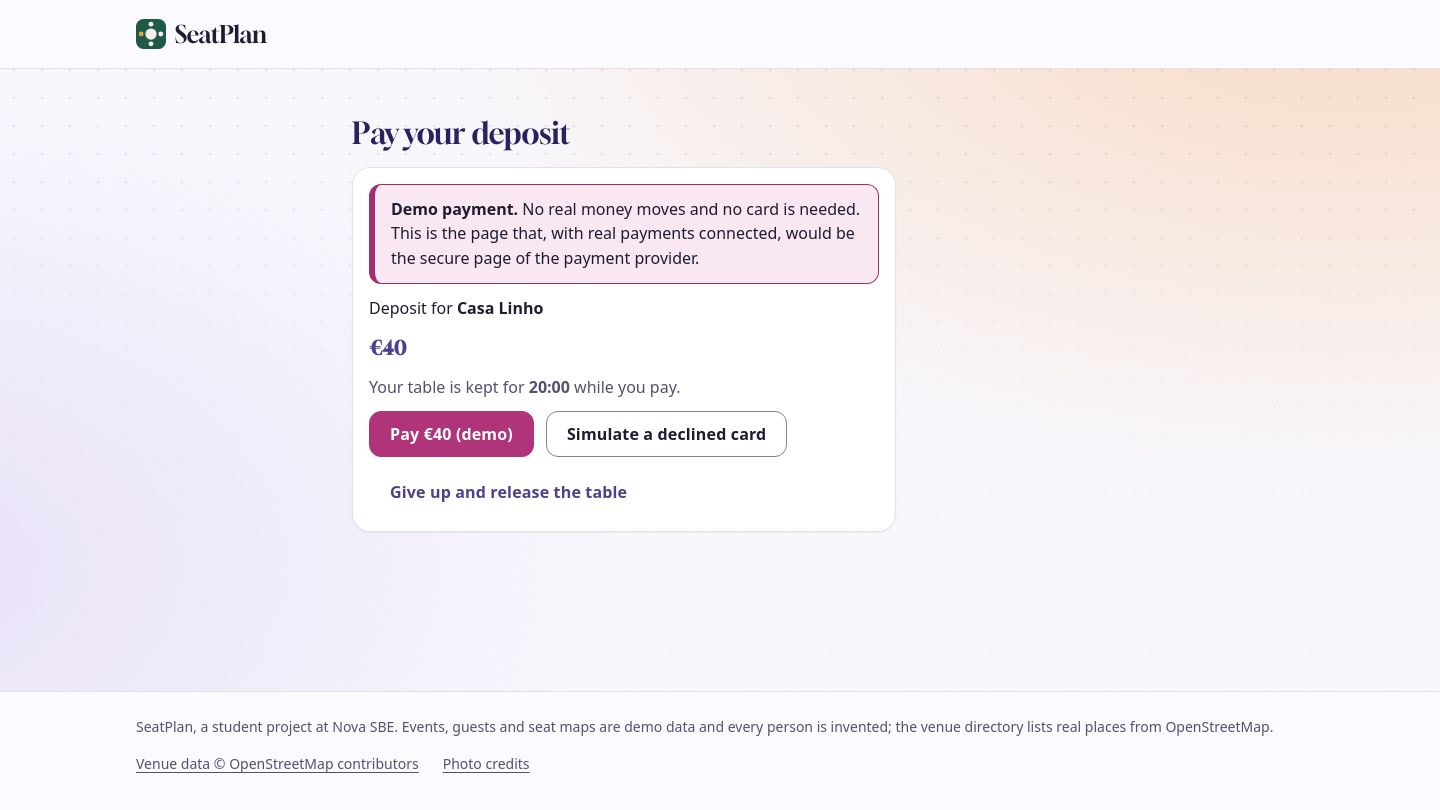
Test case: the demo payment page › paying sends the outcome and goes back to the result page
The width and height of the screenshot is (1440, 810).
Click the button "Pay €40 (demo)" at (451, 434), box [369, 411, 534, 457]
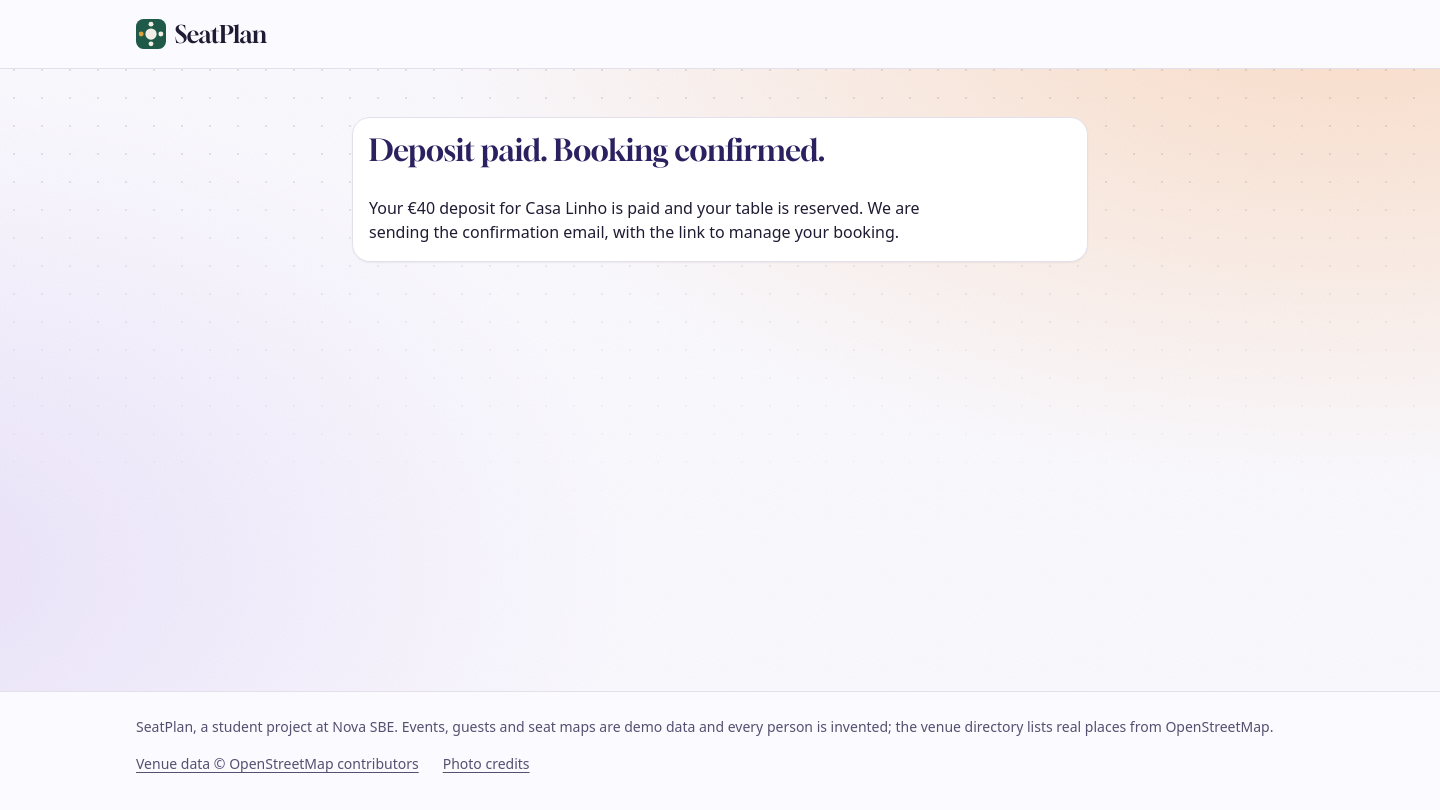
Now the heading "Deposit paid. Booking confirmed." is shown, box [369, 132, 825, 168]
